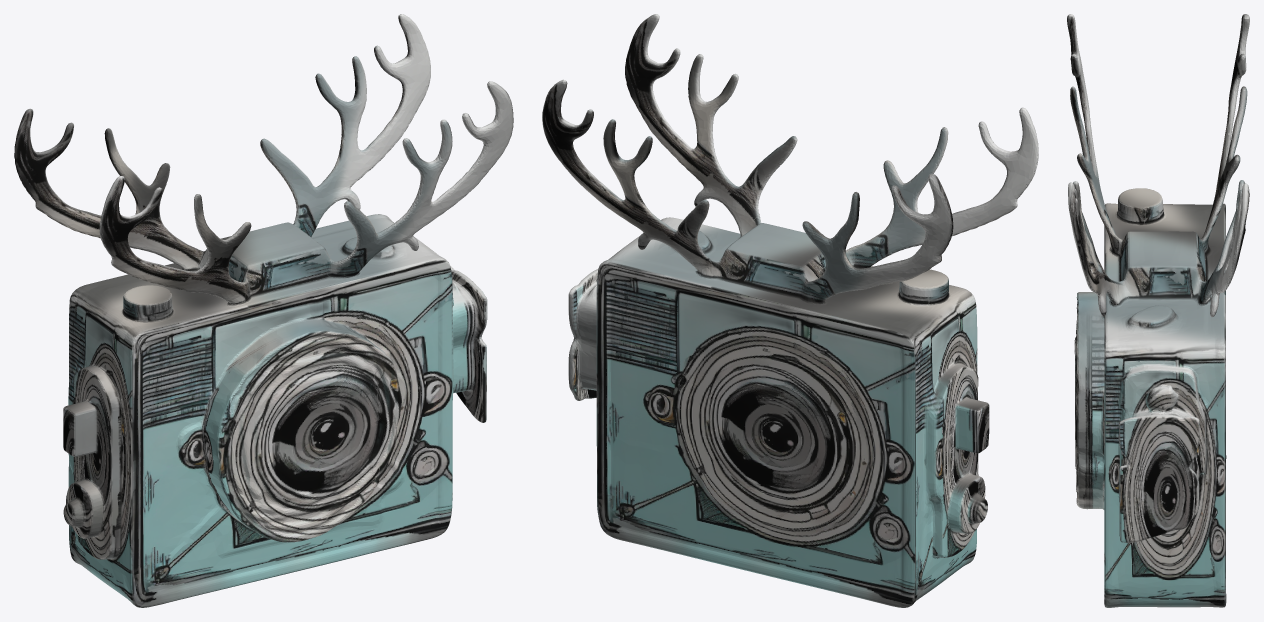
The model's file is altar_antlered_viewer.glb.
3 views of the same model, side by side, from view 1: azimuth 30°, elevation 25°; view 2: azimuth 150°, elevation 25°; view 3: azimuth 270°, elevation 25° (orthographic). The views are drawn at different scales.
Visible parts, largest first — view 1: altar_antlered_viewer; view 2: altar_antlered_viewer; view 3: altar_antlered_viewer.
Part boxes in pixels (bbox=[...]): altar_antlered_viewer: bbox=[14, 14, 513, 607]; altar_antlered_viewer: bbox=[542, 14, 1038, 607]; altar_antlered_viewer: bbox=[1067, 14, 1249, 607].
Size of the model in its own units: 2.26 by 2.4 by 0.9009.
Materials: 1 (1 with a texture image).
